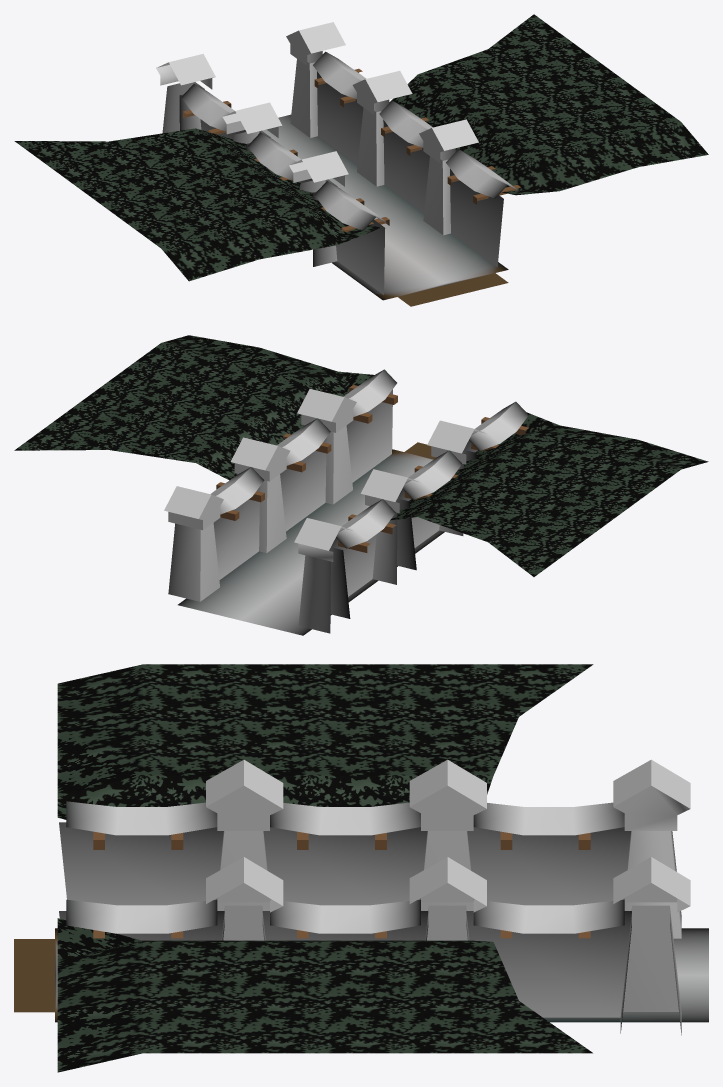
Rendered from zone10a.FBX.
3 renders of one model, top to bottom at view 1: azimuth 30°, elevation 25°; view 2: azimuth 150°, elevation 25°; view 3: azimuth 270°, elevation 25°, orthographic. The views are drawn at different scales.
Visible parts, largest first — view 1: Object04, Object28; view 2: Object28, Object04; view 3: Object04, Object28.
Boxes of the visible parts, box(x1,y1,x2,y2) form: Object04: box(14, 14, 708, 281); Object28: box(156, 22, 520, 306); Object28: box(164, 369, 528, 635); Object04: box(14, 335, 708, 576); Object04: box(57, 664, 593, 1072); Object28: box(14, 759, 708, 1035).
Size of the model in its own units: 2181 by 403 by 1649.
